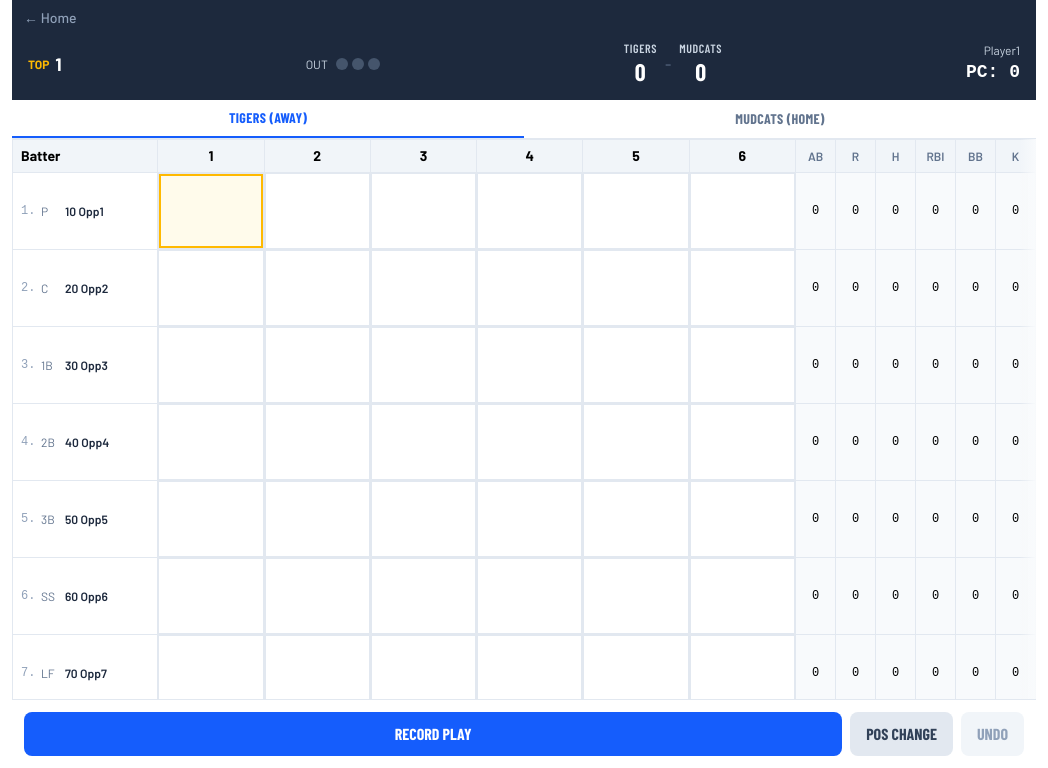
Scenario: GamePage › should show actual batting team batter in play entry panel, not the viewed tab batter
This screenshot has width=1048, height=768.
Check: the button "Record Play" is shown, box [24,712,842,756]
Step 1. Click the button "Mudcats (Home)" → (780, 119), box [524,100,1036,138]
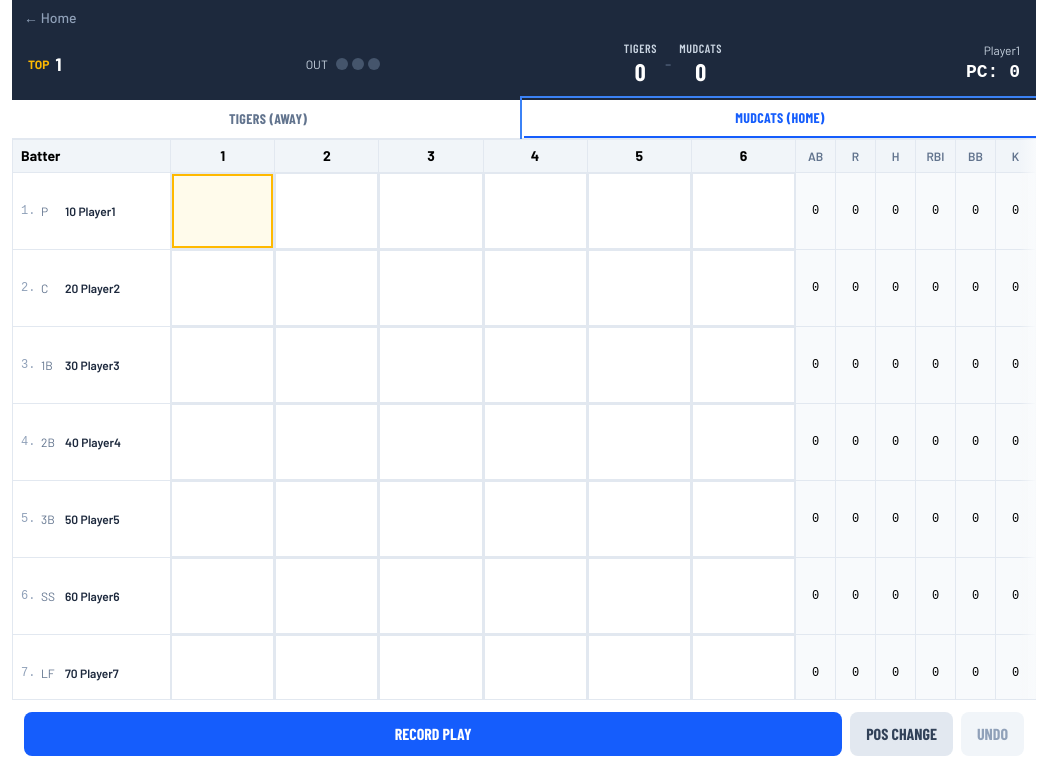
Open play entry panel — should show the actual current batter (Opp1, away team batting top)
Step 2. Click the button "Record Play" → (433, 734), box [24,712,842,756]
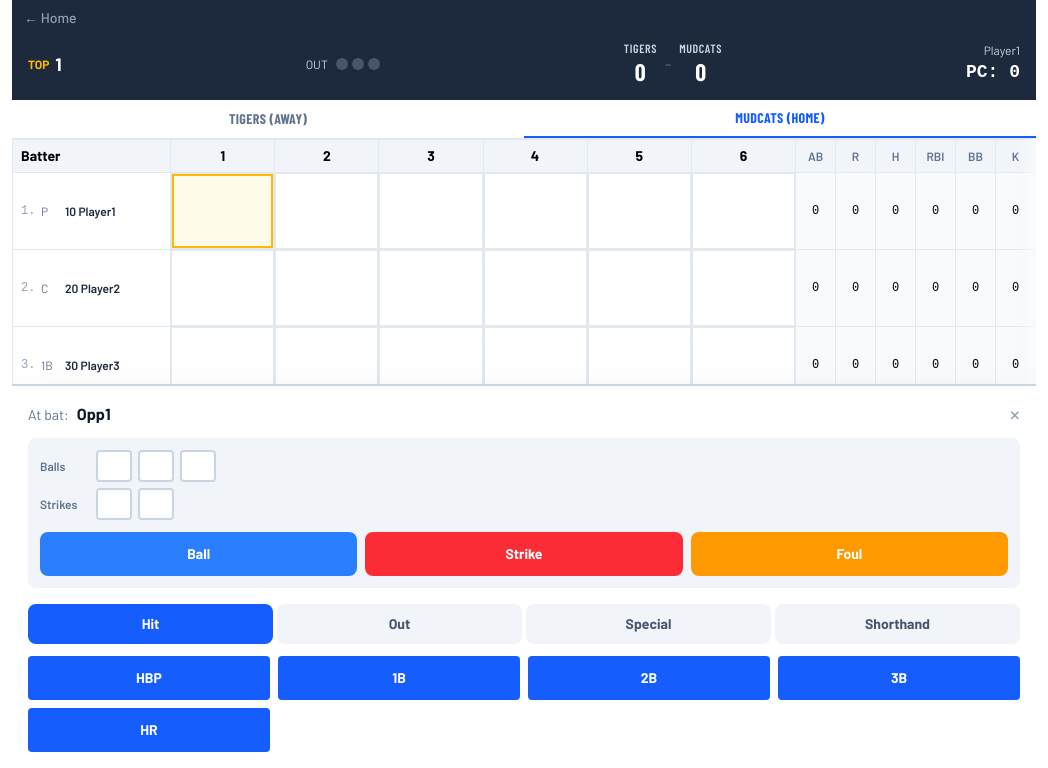
Check: the text "Opp1" is shown, box [77,404,111,423]
